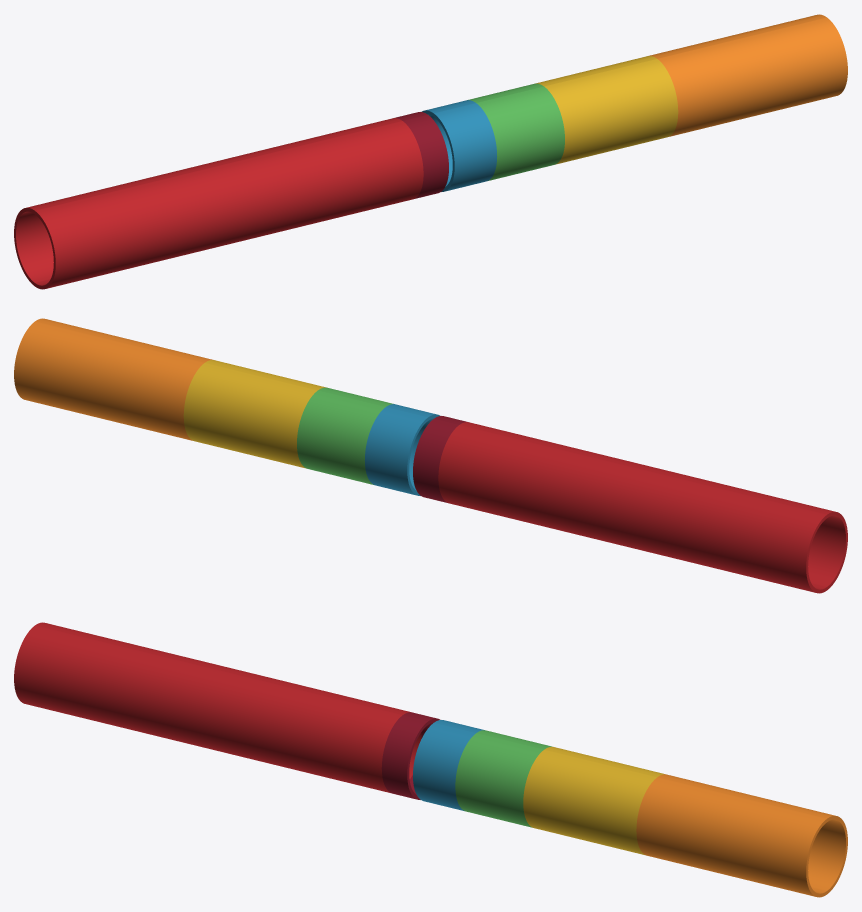
Rendered from orifice_plate_pressure.glb.
3 views of the same model, one above another, from view 1: azimuth 30°, elevation 25°; view 2: azimuth 150°, elevation 25°; view 3: azimuth 330°, elevation 25° (orthographic).
Parts seen in each view (by area): view 1: prof__front, prof__back; view 2: prof__back, prof__front; view 3: prof__front, prof__back.
Part boxes in pixels (<box>): prof__front: <box>35,17,847,289</box>; prof__back: <box>14,14,826,286</box>; prof__back: <box>14,321,826,593</box>; prof__front: <box>35,318,847,590</box>; prof__front: <box>14,625,826,897</box>; prof__back: <box>35,622,847,894</box>.
Bounding box in the file's own units: 1.4 × 0.128 × 0.128.
